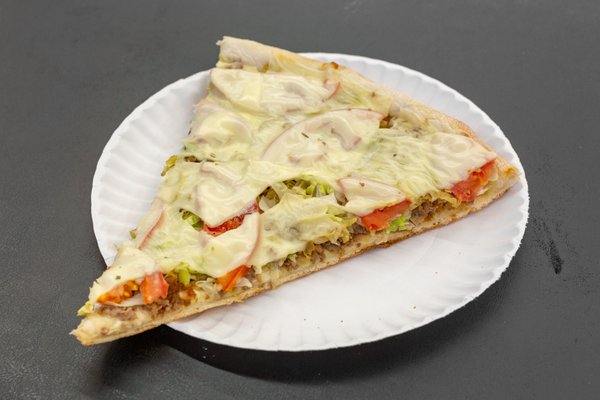curry: (12, 0, 598, 390)
sandwich: (75, 39, 518, 343)
